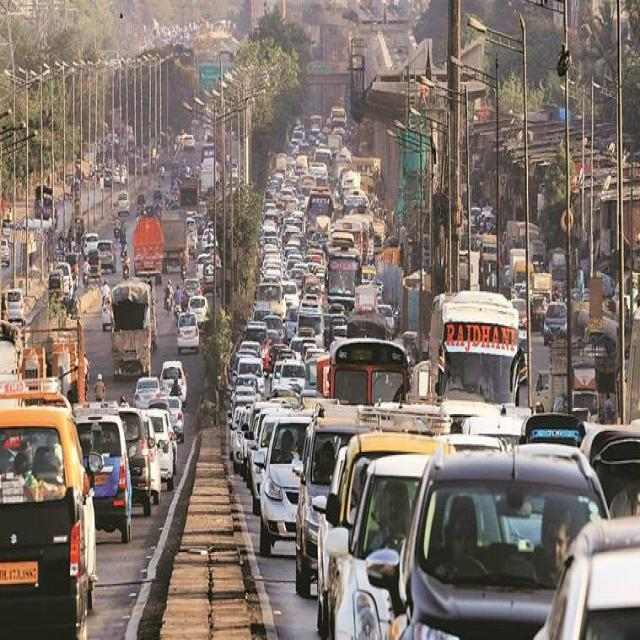Truck: (326, 337, 412, 480)
bus: (433, 290, 523, 450)
